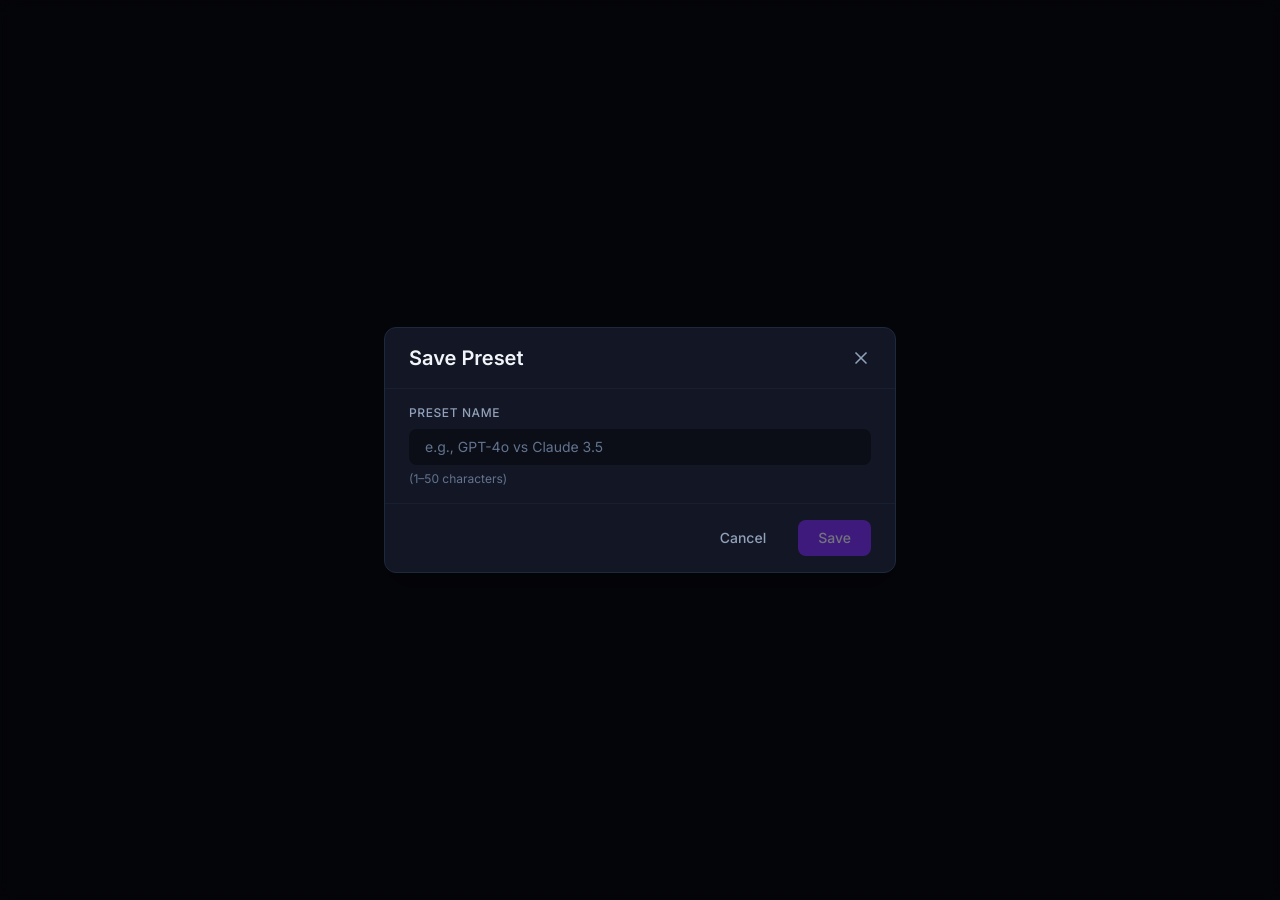
Test: SavePresetDialog › TC-UI-04: shows duplicate name error
Step 1. Type "Existing Preset" into the field with test id "preset-name-input" → point(640, 447), box x1=409 y1=429 x2=871 y2=465
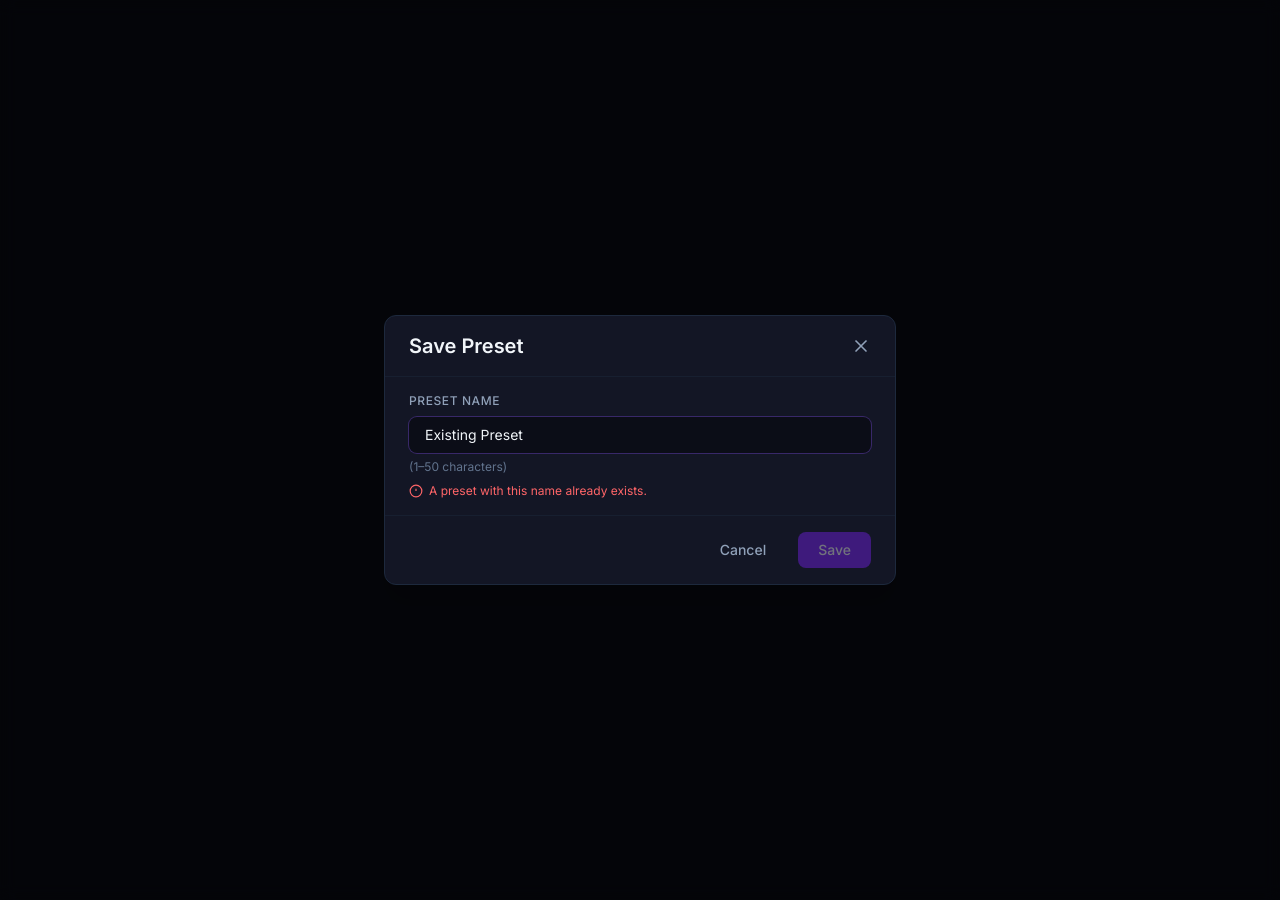
Expected: the button "Save" is disabled, x1=798 y1=532 x2=871 y2=568
Now the text "A preset with this name already exists." is shown, box x1=429 y1=483 x2=647 y2=499
